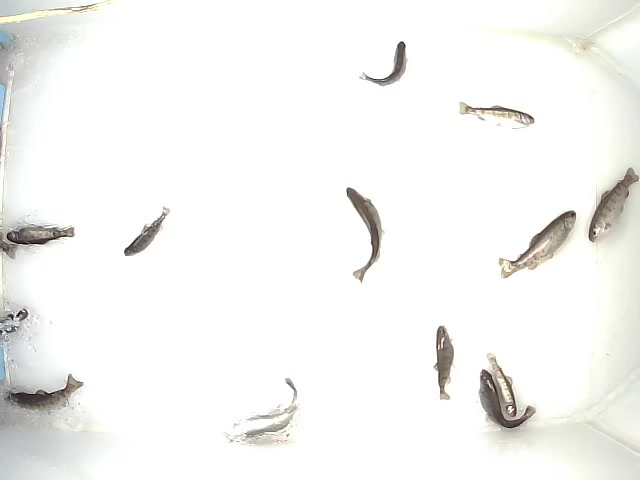fish: (494, 207, 576, 281), (223, 374, 300, 443), (342, 185, 386, 285), (586, 164, 639, 243), (476, 367, 538, 429), (7, 370, 86, 411), (122, 204, 171, 261), (358, 39, 409, 90), (457, 99, 535, 130), (3, 221, 78, 250), (487, 349, 516, 417), (432, 326, 453, 402)
